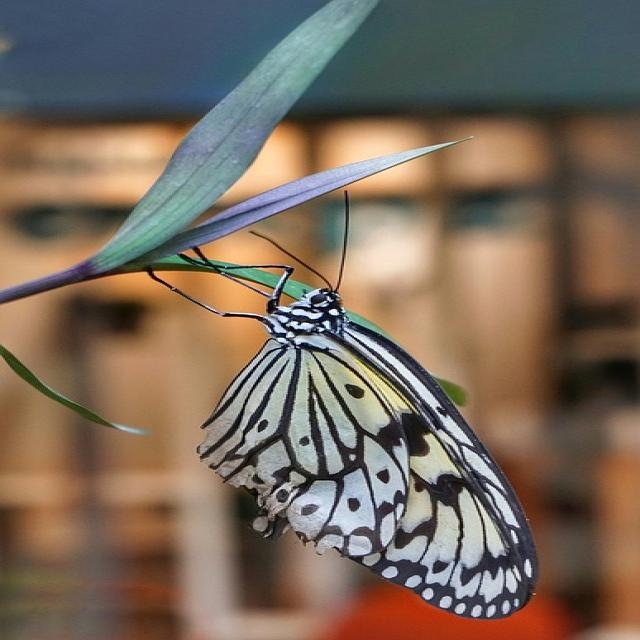butterfly: (150, 266, 539, 622)
